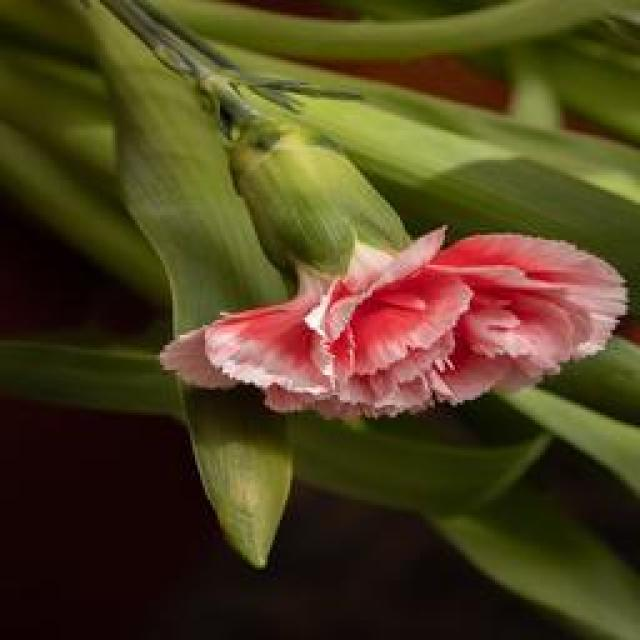carnation: (152, 153, 622, 457)
